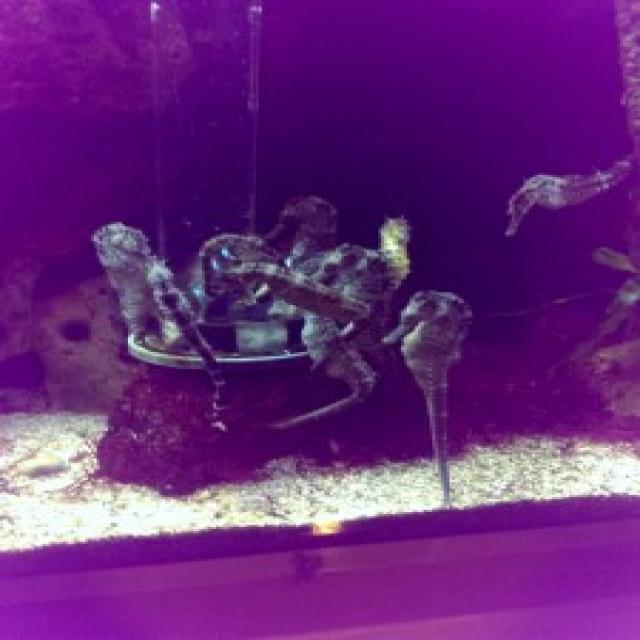Seahorse: (396, 285, 486, 514), (496, 148, 638, 239), (318, 244, 389, 388), (270, 188, 346, 245)
